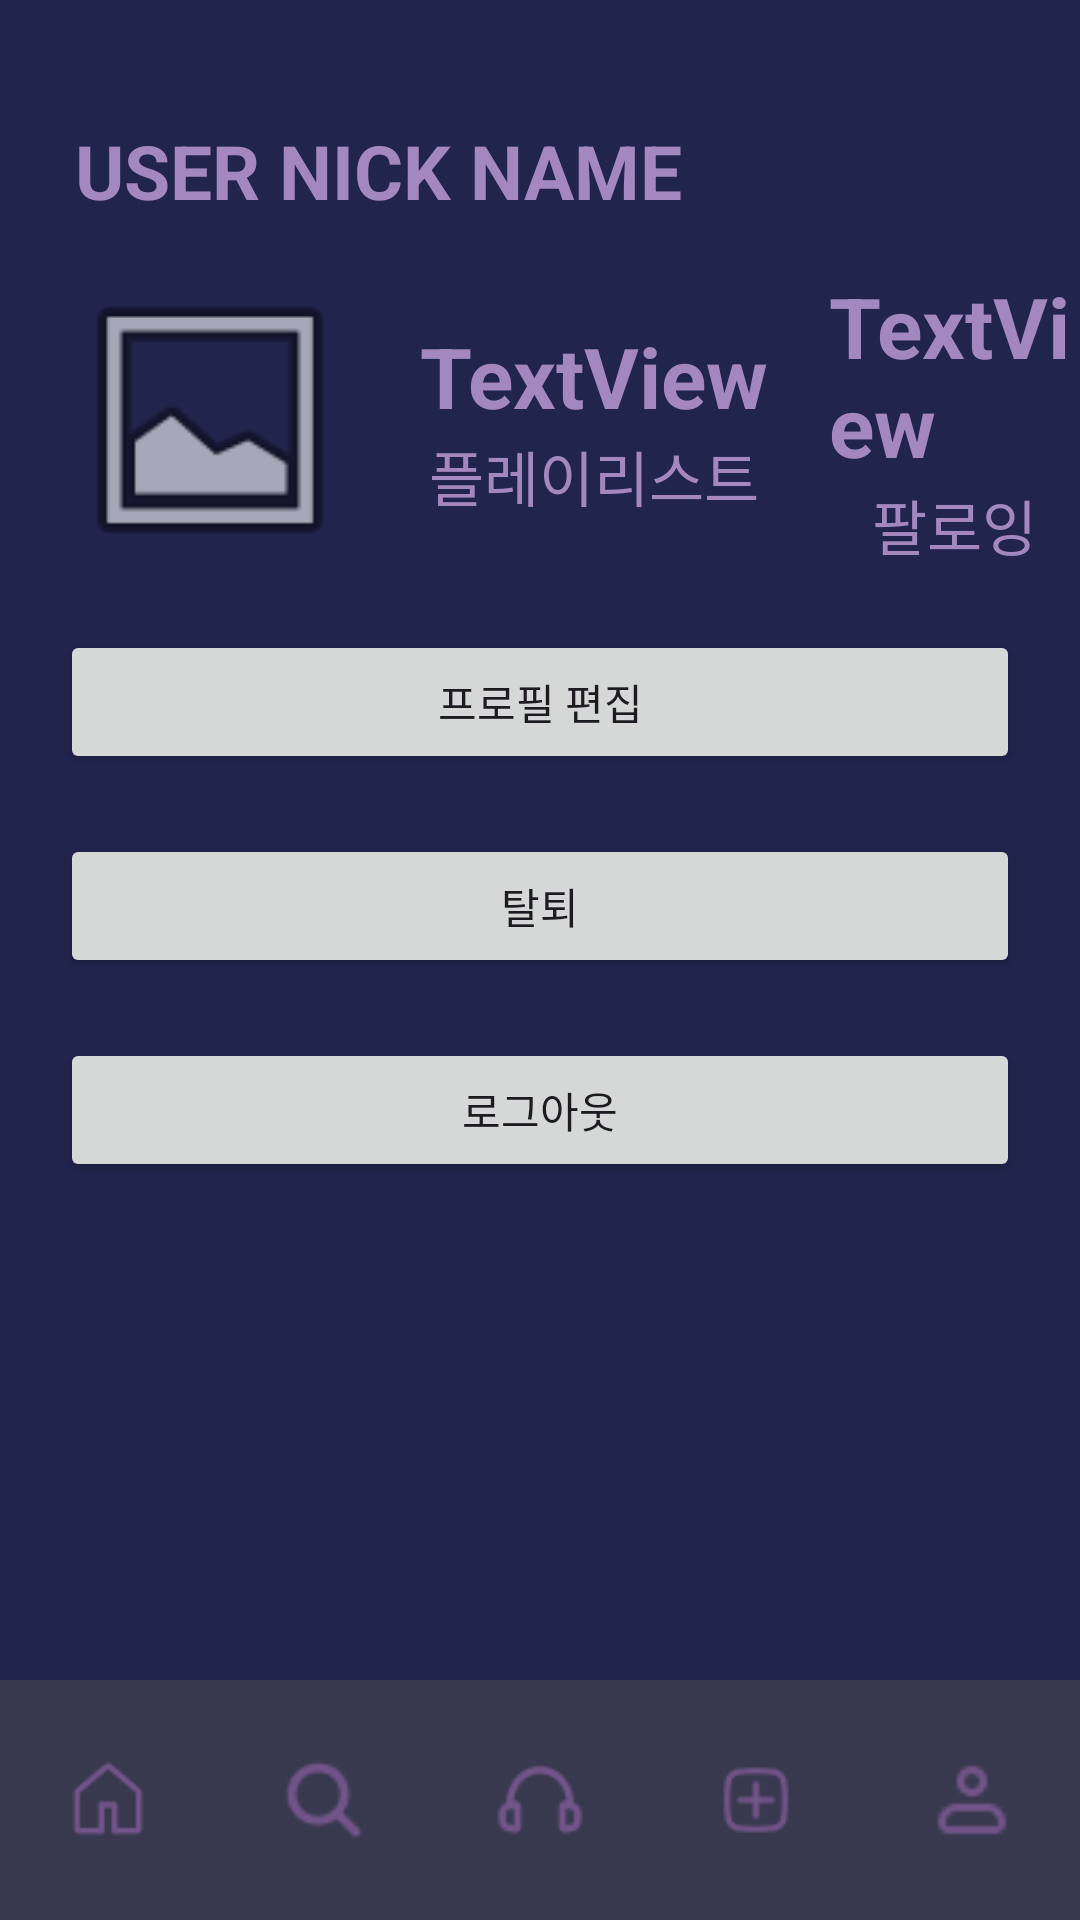

Where to tap for icons on this 1080x1920 app screen, as (x=x, y=y):
gallery: (x=210, y=420)
